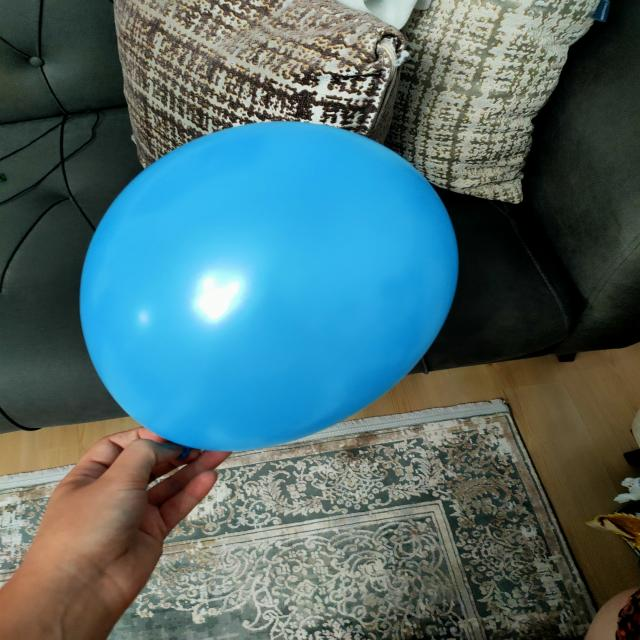blue: (86, 115, 461, 455)
